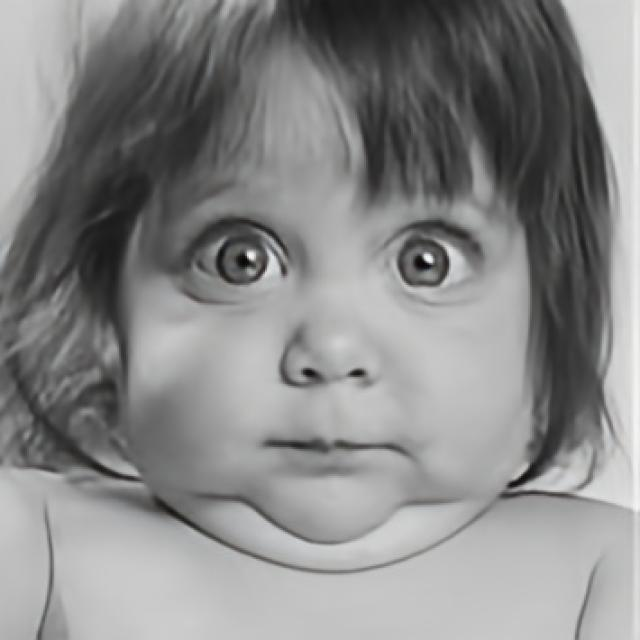fear: (111, 0, 551, 547)
